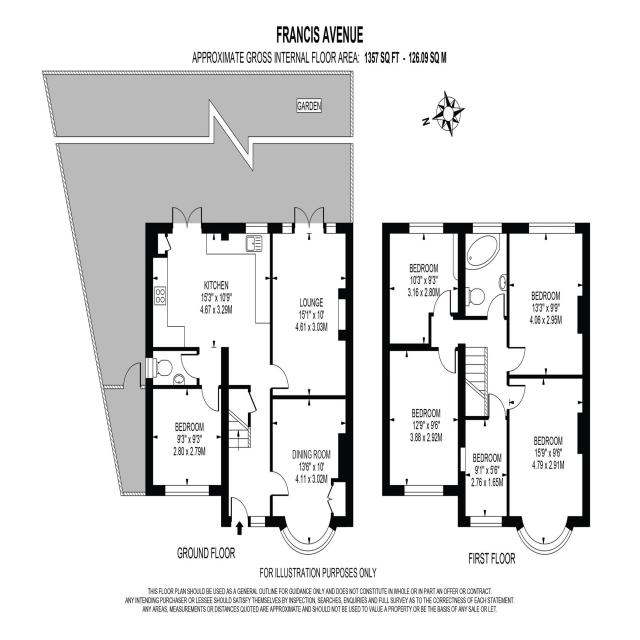DOOR: (230, 496, 249, 527), (437, 346, 457, 375), (506, 384, 526, 411), (433, 289, 452, 317), (506, 346, 526, 372), (180, 353, 200, 379), (270, 470, 289, 497), (488, 392, 506, 420), (270, 364, 289, 390), (487, 293, 505, 320), (201, 385, 219, 412)
DOUBLE DOOR: (294, 206, 325, 234), (171, 206, 202, 234)
ROOM: (270, 206, 354, 400), (506, 374, 591, 557), (270, 395, 354, 556), (506, 222, 590, 379), (381, 343, 466, 497), (382, 222, 466, 352), (145, 384, 229, 496), (457, 392, 510, 527)
WINDOW: (280, 524, 336, 556), (516, 525, 573, 556), (528, 222, 576, 235), (164, 484, 210, 497), (403, 484, 444, 497), (408, 221, 444, 235), (470, 515, 502, 528), (472, 222, 502, 234), (245, 222, 268, 234), (250, 515, 266, 528), (145, 357, 153, 379), (282, 222, 293, 234), (326, 222, 336, 234)
